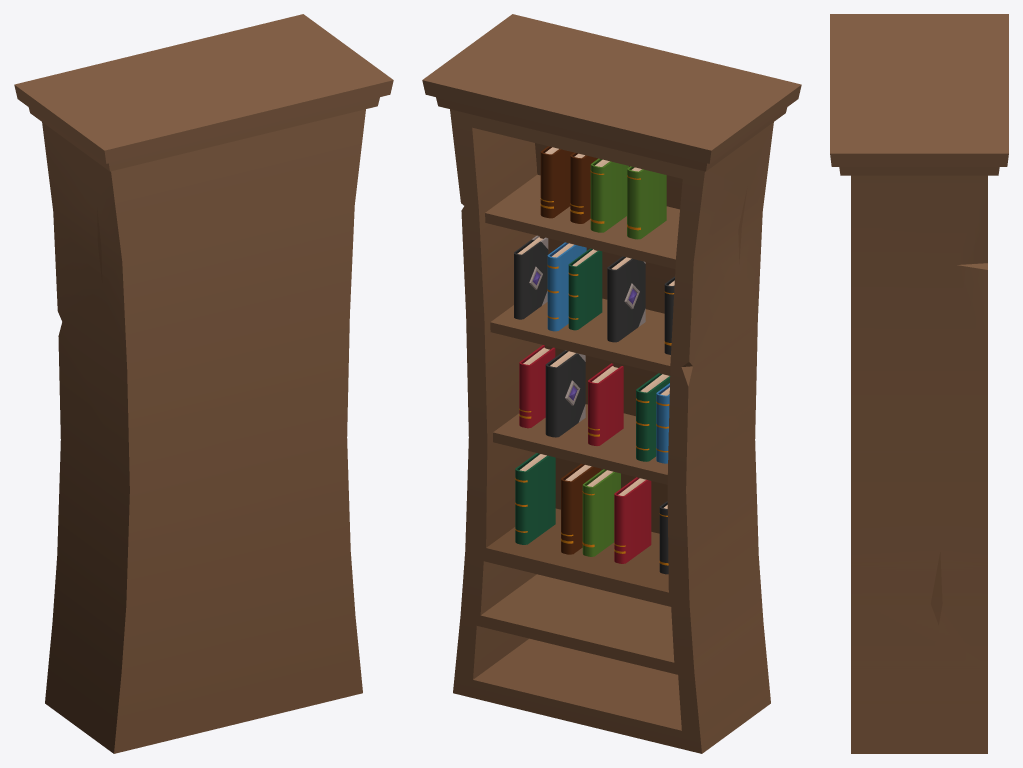
File: ShelfPattern_04.fbx
3 renders of one model, left to right at view 1: azimuth 30°, elevation 25°; view 2: azimuth 150°, elevation 25°; view 3: azimuth 270°, elevation 25°, orthographic.
Parts seen in each view (by area): view 1: ShelfPattern_04; view 2: ShelfPattern_04; view 3: ShelfPattern_04.
Boxes of the visible parts, <box> form: ShelfPattern_04: <box>14,14,393,753</box>; ShelfPattern_04: <box>422,14,801,753</box>; ShelfPattern_04: <box>830,14,1008,753</box>.
Bounding box in the file's own units: 99.08 × 202 × 53.61.
